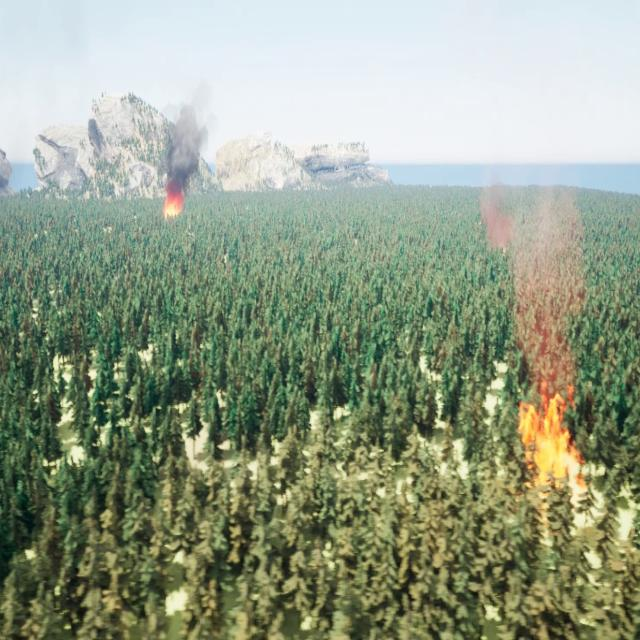fire: (516, 388, 591, 486), (158, 193, 184, 218)
smoke: (480, 168, 592, 384), (164, 80, 219, 190)
